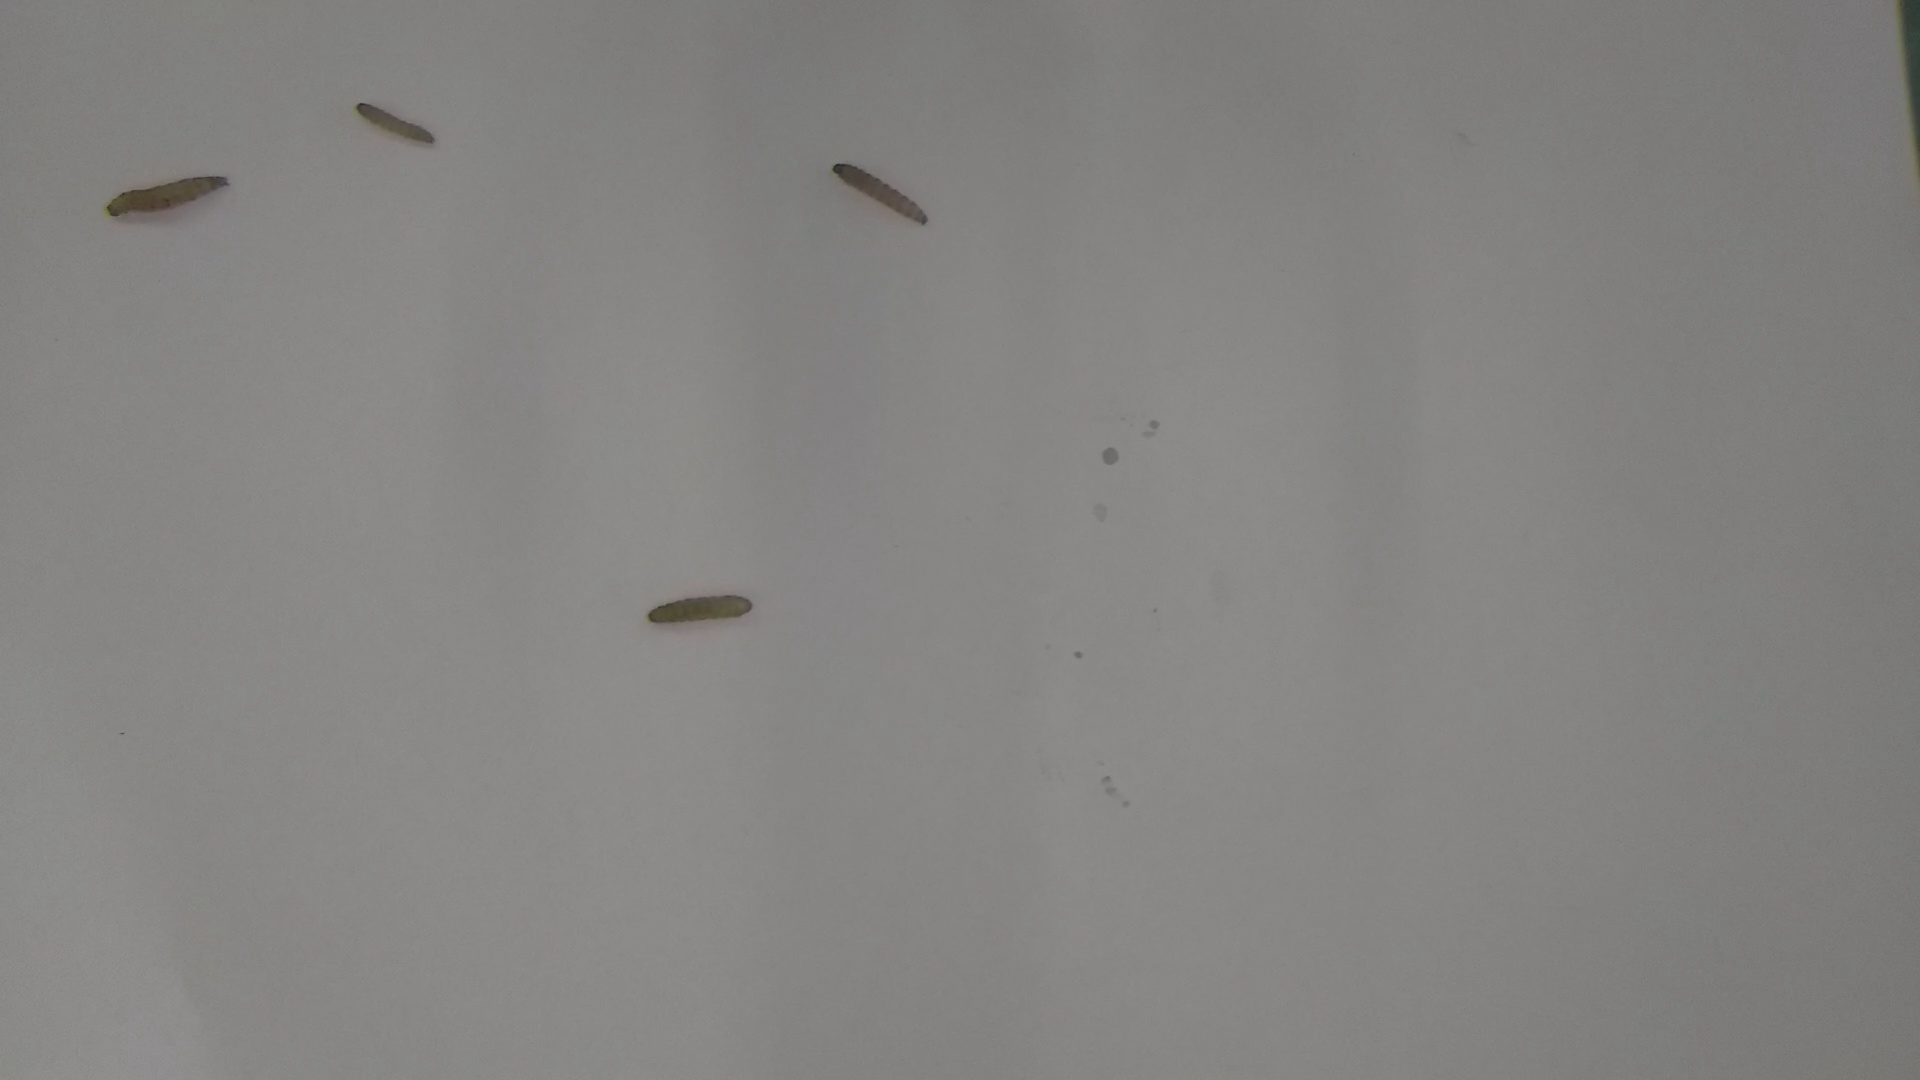efsb: (828, 161, 939, 229), (102, 169, 233, 222), (349, 98, 443, 152), (641, 589, 760, 632)
